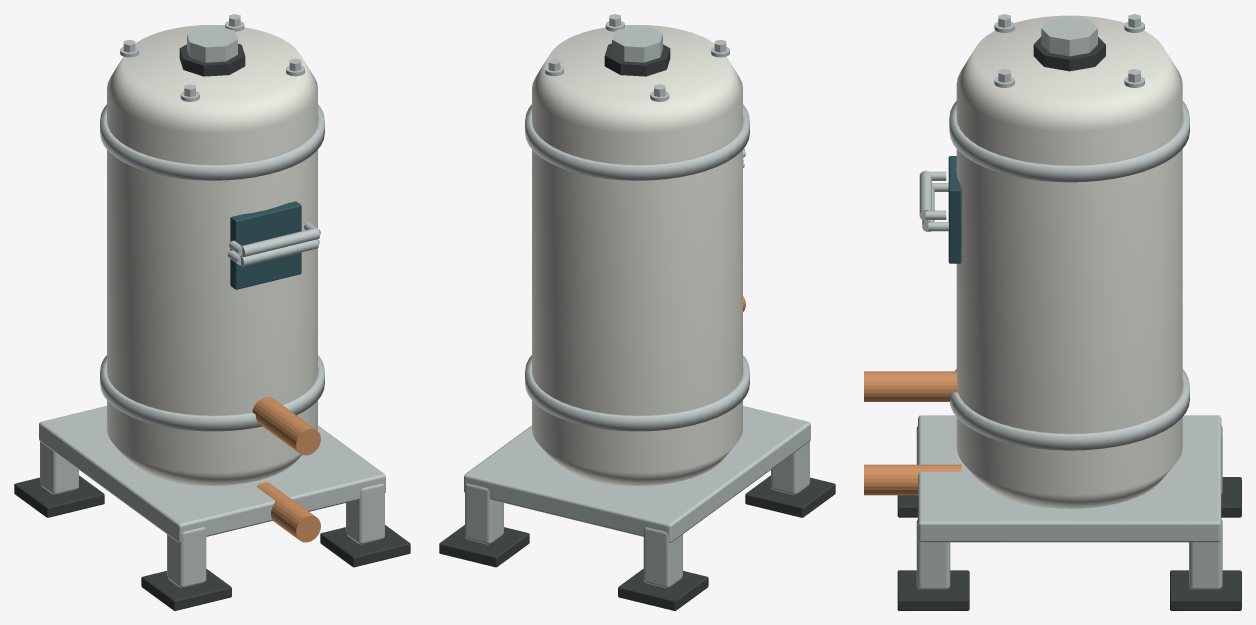
Rendered from generation-ship-hydroponics-generation-ship-hydroponic-d5e0902e__31487.glb.
3 renders of one model, left to right at view 1: azimuth 30°, elevation 25°; view 2: azimuth 150°, elevation 25°; view 3: azimuth 270°, elevation 25°, orthographic. The views are drawn at different scales.
Visible parts, largest first — view 1: generation-ship-hydroponics-water-sterilizer; view 2: generation-ship-hydroponics-water-sterilizer; view 3: generation-ship-hydroponics-water-sterilizer.
Boxes of the visible parts, <box> form: generation-ship-hydroponics-water-sterilizer: <box>14,14,410,610</box>; generation-ship-hydroponics-water-sterilizer: <box>439,14,835,610</box>; generation-ship-hydroponics-water-sterilizer: <box>864,14,1241,610</box>.
Size of the model in its own units: 0.57 by 1.12 by 0.735.
